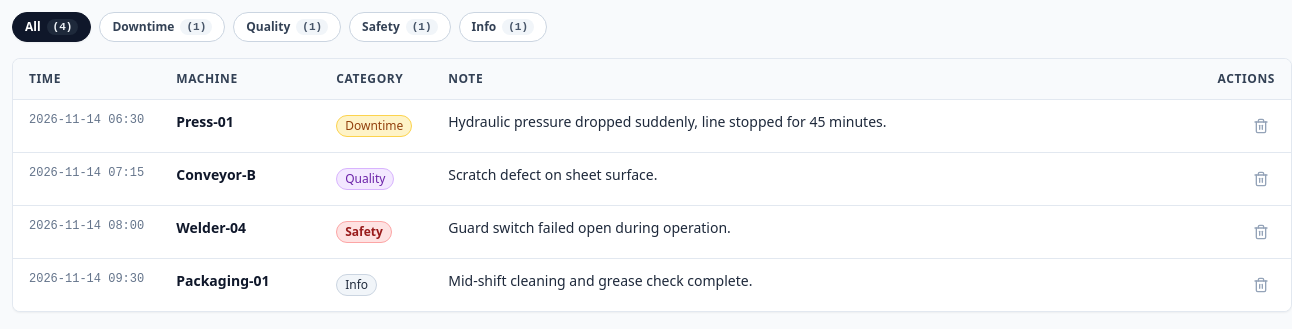
Test: EventList Component › Event Deletion Flow › prompts user confirmation, calls eventsApi.deleteEvent, updates counts, and fires onEventDeleted
Expected: the text "Press-01" is shown, [160, 100, 320, 152]
Note: Click delete button for Press-01
Click the button named "delete event for press-01": (1261, 126) [1247, 112, 1275, 140]
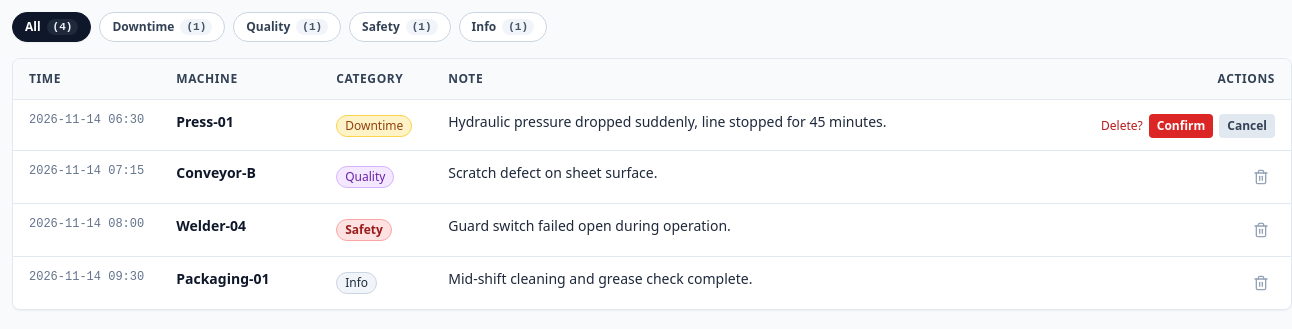
Expected: the button with aria-label "confirm delete for press-01" is shown
Expected: the button with aria-label "cancel delete for press-01" is shown, [1219, 114, 1275, 138]
Note: Click confirm
Click the button with aria-label "confirm delete for press-01": (1181, 126) [1149, 114, 1213, 138]
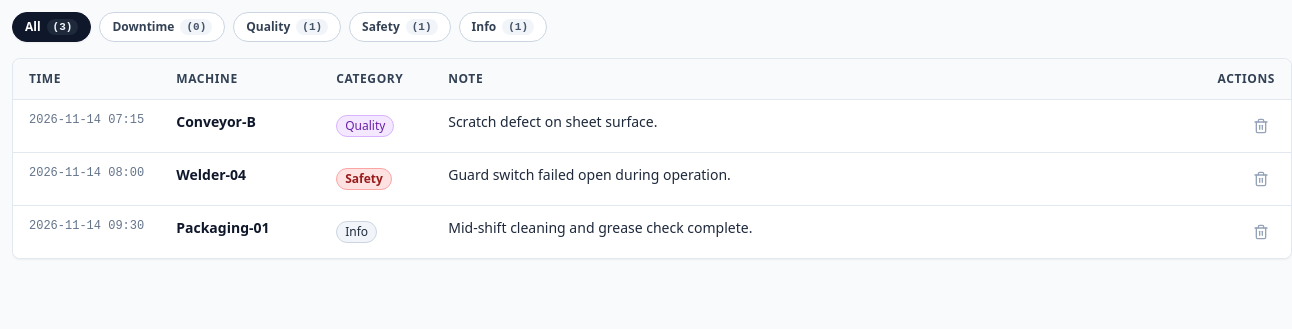
Expected: the text "Press-01" is gone
Expected: the button "All (3)" is shown, [12, 12, 91, 42]
Expected: the button "Downtime (0)" is shown, [99, 12, 225, 42]
